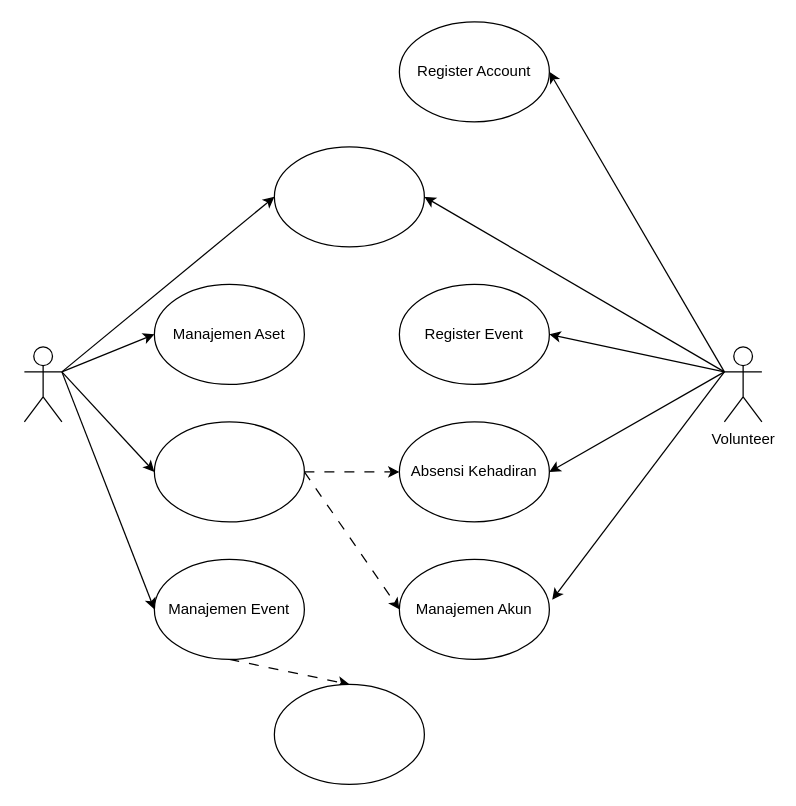
This 796x806 diagram has some shape labels left out. The shapes that lost their labels are listed below. From the top down, each one's centre as x and y in pixels, then its label:
[348,196]: Login
[42,384]: Admin
[228,471]: Manajemen Volunteer
[348,733]: Manajemen Task Event
